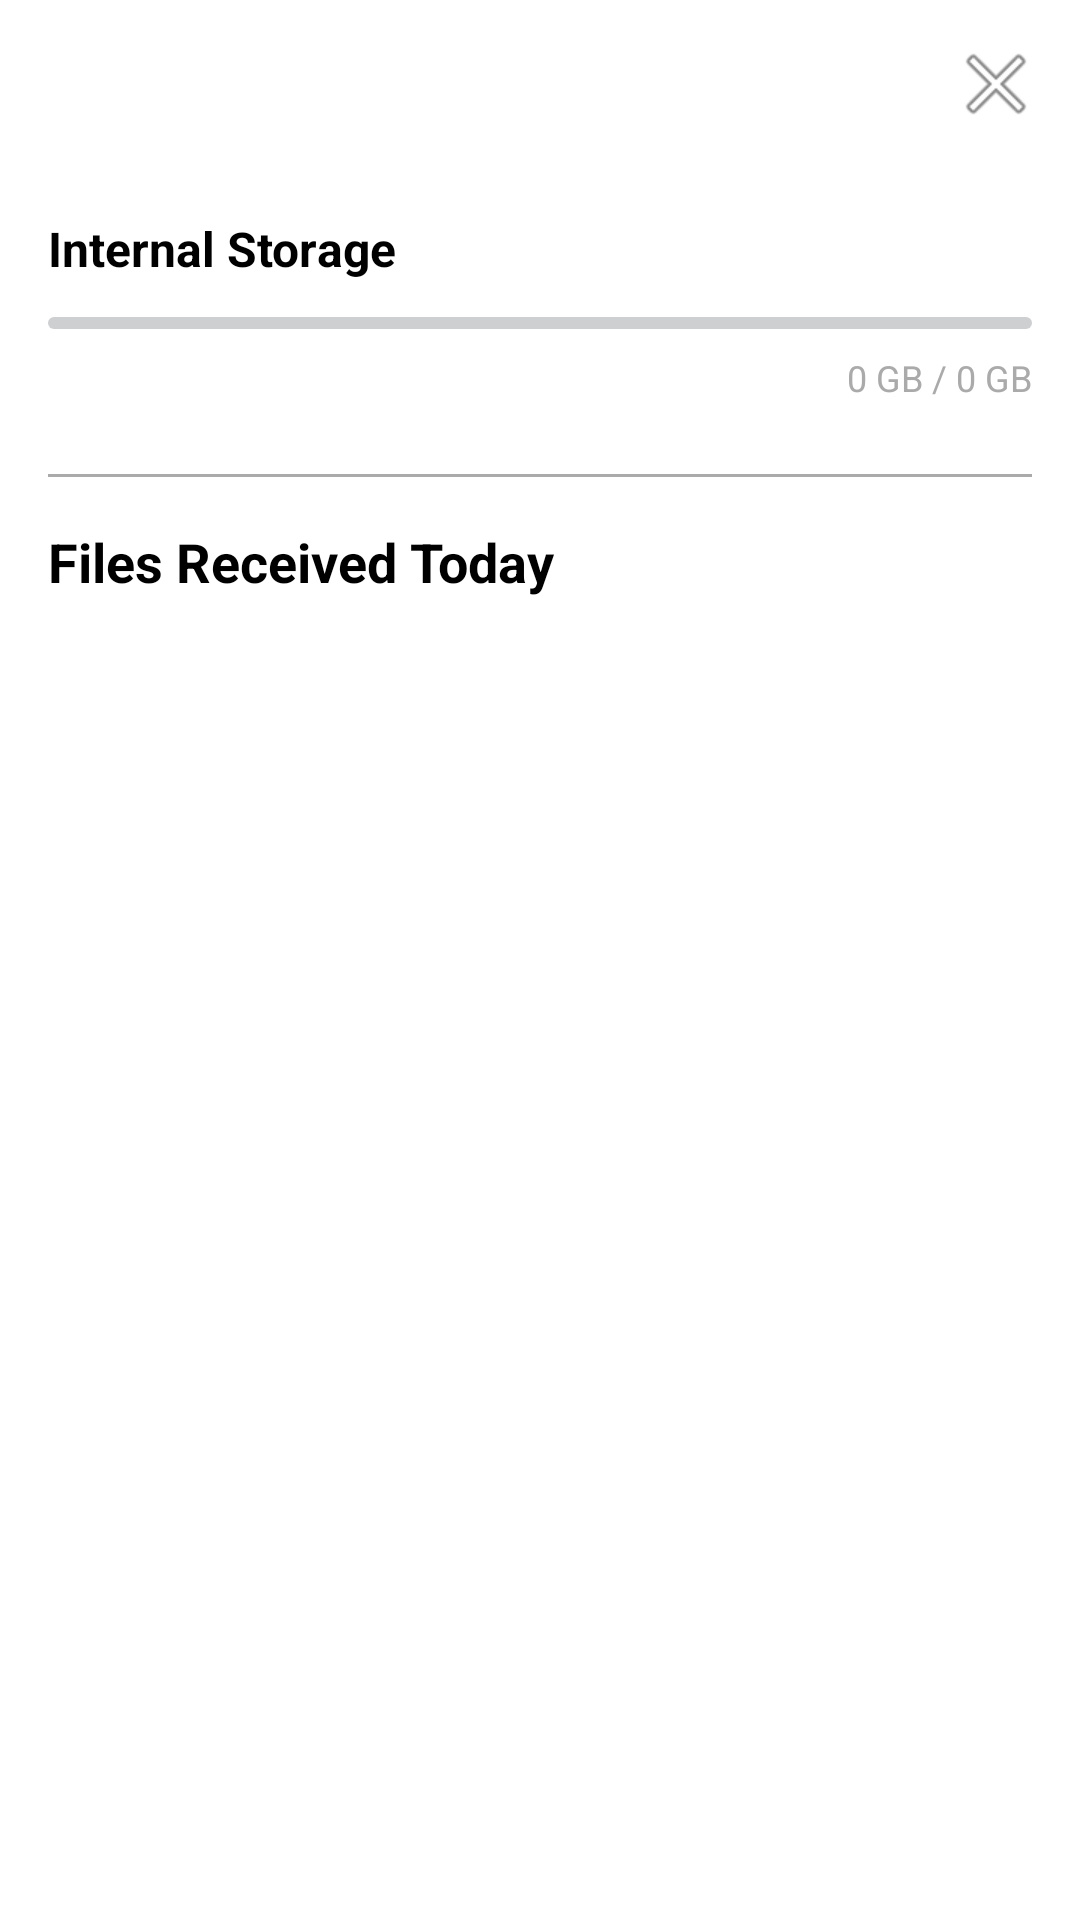

Named icons in this screenshot (1080 x 1920) and their centers, (x,y):
Close: (996,84)
